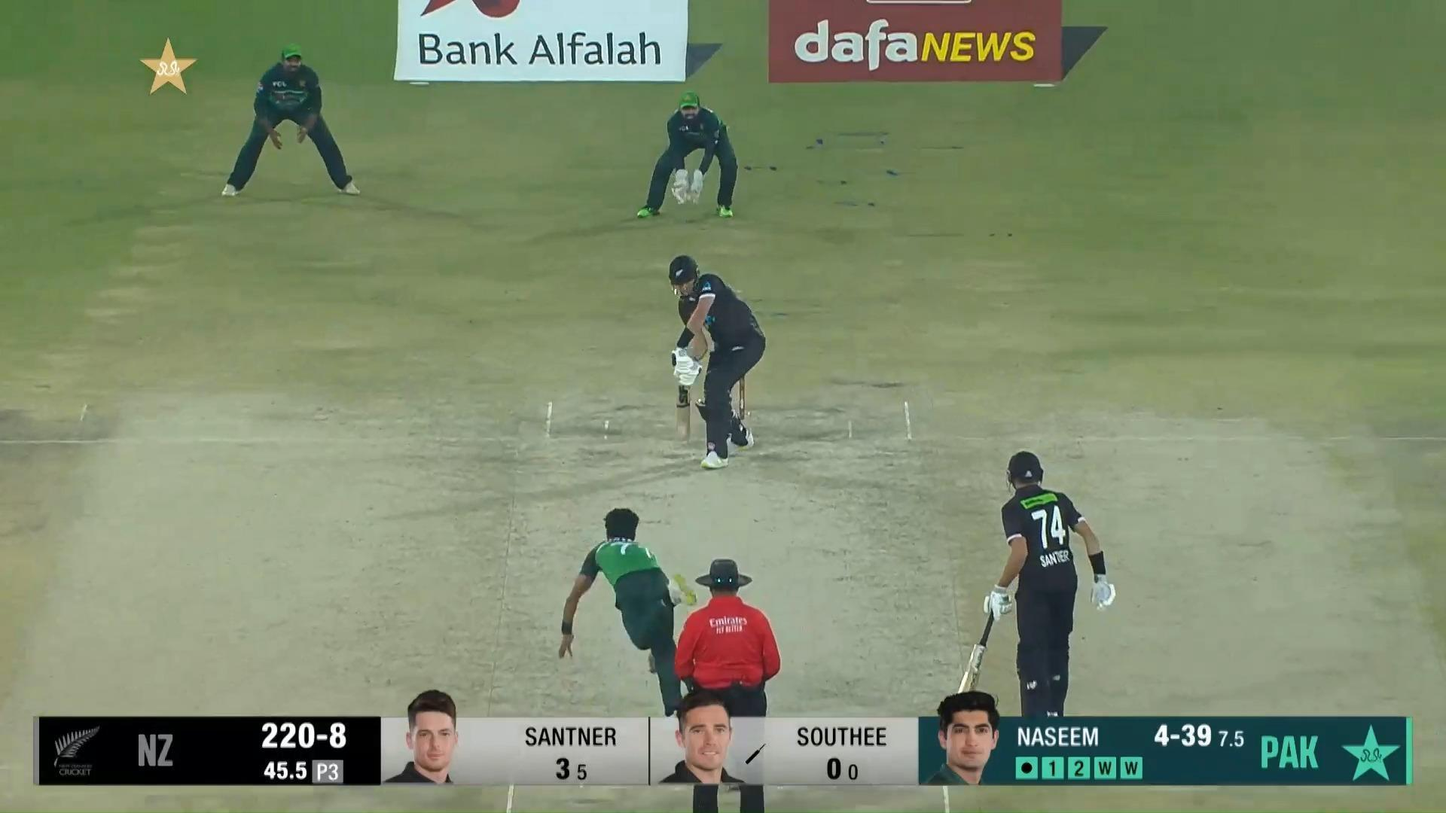BM 1: (668, 254, 768, 470)
BO: (558, 506, 699, 716)
